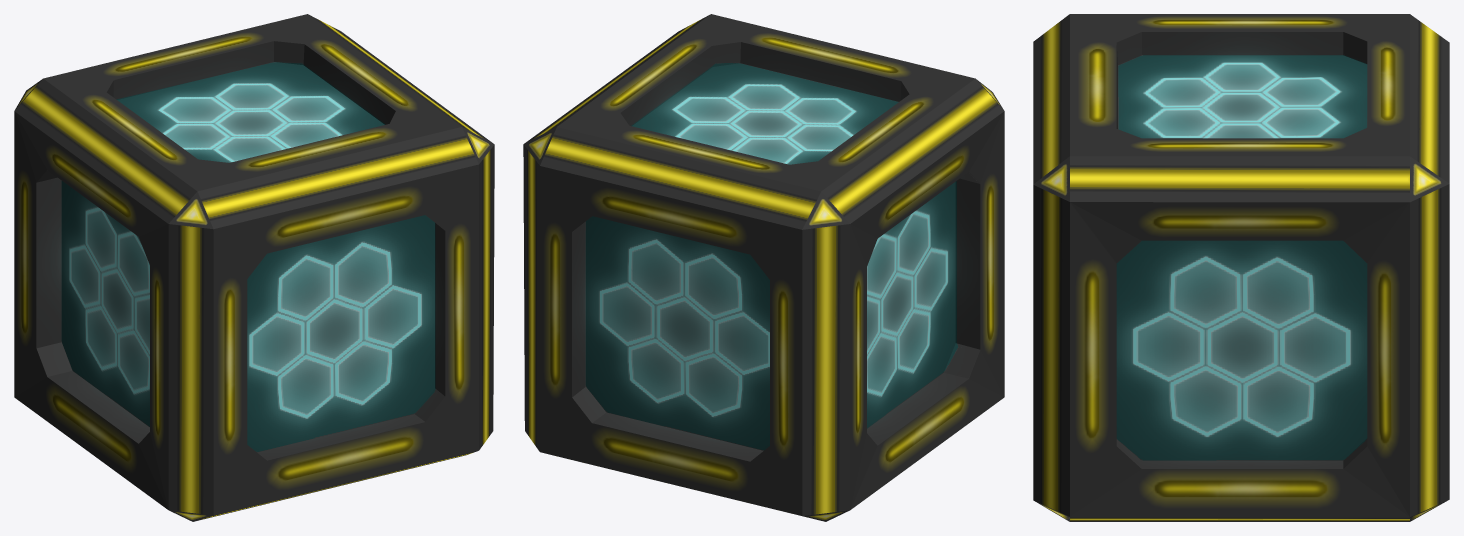
File: ItemIcon_Shield.fbx
3 renders of one model, left to right at view 1: azimuth 30°, elevation 25°; view 2: azimuth 150°, elevation 25°; view 3: azimuth 270°, elevation 25°, orthographic. The views are drawn at different scales.
Parts seen in each view (by area): view 1: ItemIcon_Shield; view 2: ItemIcon_Shield; view 3: ItemIcon_Shield.
Part boxes in pixels (left/top/right/bottom): ItemIcon_Shield: left=14, top=14, right=494, bottom=521; ItemIcon_Shield: left=523, top=14, right=1004, bottom=521; ItemIcon_Shield: left=1033, top=14, right=1449, bottom=521.
Size of the model in its own units: 94.2 by 90.72 by 94.28.
